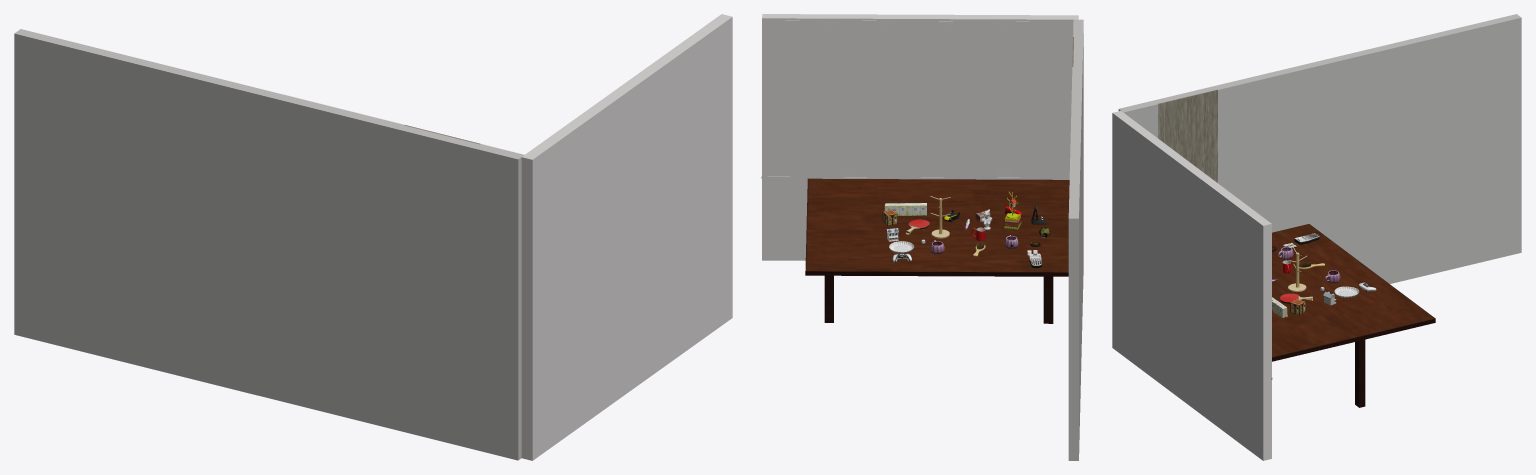
Rendered from ours.glb.
3 renders of one model, left to right at view 1: azimuth 30°, elevation 25°; view 2: azimuth 150°, elevation 25°; view 3: azimuth 270°, elevation 25°, orthographic. The views are drawn at different scales.
Visible parts, largest first — view 1: wall_2, wall_0; view 2: wall_0, table_0, wall_2, obj_tissue_box_0; view 3: wall_2, wall_0, table_0, wall_2_panel.
Part boxes in pixels (x1=…): wall_2: x1=14, y1=29, x2=524, y2=460; wall_0: x1=521, y1=14, x2=732, y2=460; wall_0: x1=761, y1=14, x2=1078, y2=260; table_0: x1=805, y1=178, x2=1069, y2=323; wall_2: x1=1068, y1=19, x2=1083, y2=460; obj_tissue_box_0: x1=884, y1=203, x2=926, y2=215; wall_2: x1=1118, y1=14, x2=1521, y2=283; wall_0: x1=1112, y1=111, x2=1272, y2=460; table_0: x1=1272, y1=224, x2=1435, y2=407; wall_2_panel: x1=1158, y1=89, x2=1217, y2=182.
Size of what is drawn, in the model's own units: 3.51 by 1.82 by 2.87.
Materials: 34 (28 with a texture image).
